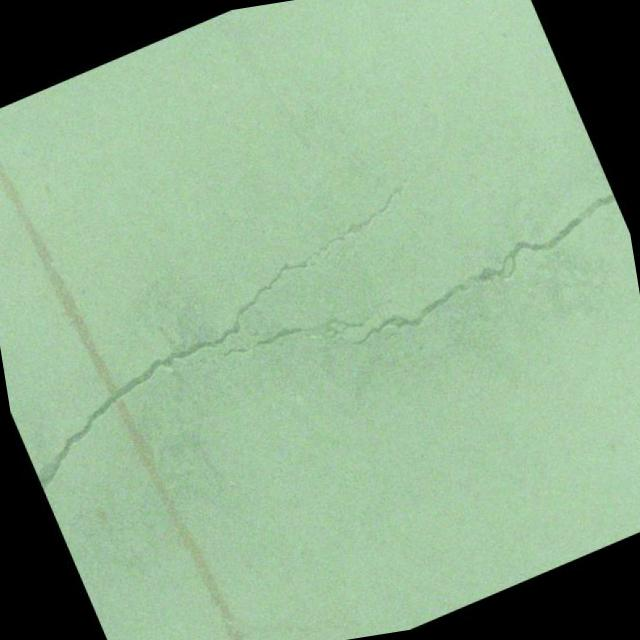crack: (0, 177, 477, 494), (167, 182, 640, 420)
